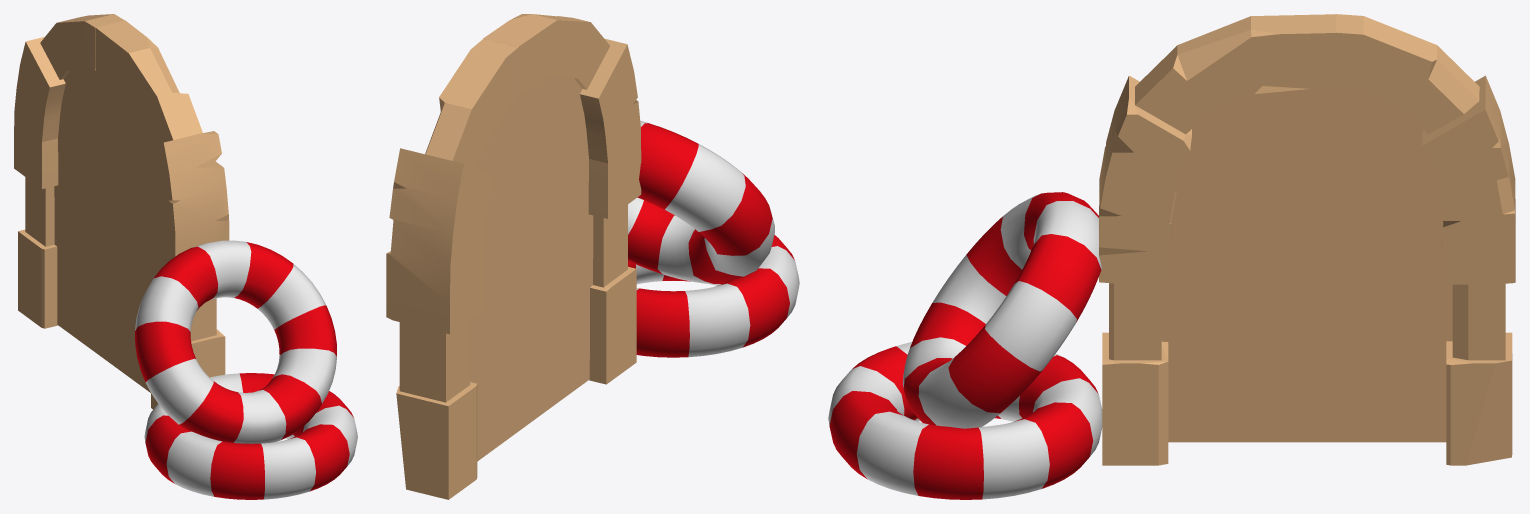
The model's file is shire4portal 1.fbx.
The picture shows the model from 3 angles, left to right: view 1: azimuth 30°, elevation 25°; view 2: azimuth 150°, elevation 25°; view 3: azimuth 270°, elevation 25°; orthographic projection. The views are drawn at different scales.
Visible parts, largest first — view 1: Cube.001, Torus.002, Plane, Torus; view 2: Cube.001, Plane, Torus.002, Torus; view 3: Plane, Cube.001, Torus.002, Torus.
Boxes of the visible parts, bbox=[...] form: Cube.001: bbox=[14, 14, 229, 409]; Torus.002: bbox=[135, 240, 336, 443]; Plane: bbox=[54, 67, 156, 392]; Torus: bbox=[144, 373, 357, 499]; Cube.001: bbox=[386, 14, 641, 499]; Plane: bbox=[470, 75, 593, 461]; Torus.002: bbox=[628, 121, 774, 283]; Torus: bbox=[628, 235, 799, 357]; Plane: bbox=[1161, 88, 1452, 442]; Cube.001: bbox=[1099, 14, 1515, 465]; Torus.002: bbox=[902, 192, 1101, 428]; Torus: bbox=[828, 342, 1102, 499].
Size of the model in its own units: 126 by 219 by 315.
